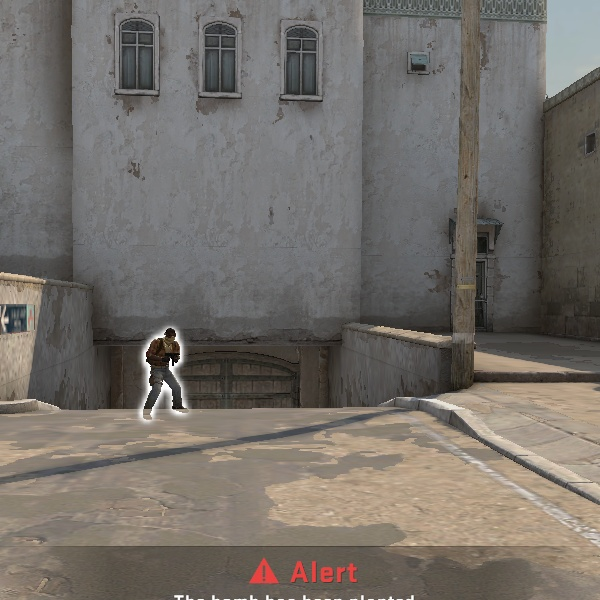t_body: (141, 323, 194, 415)
